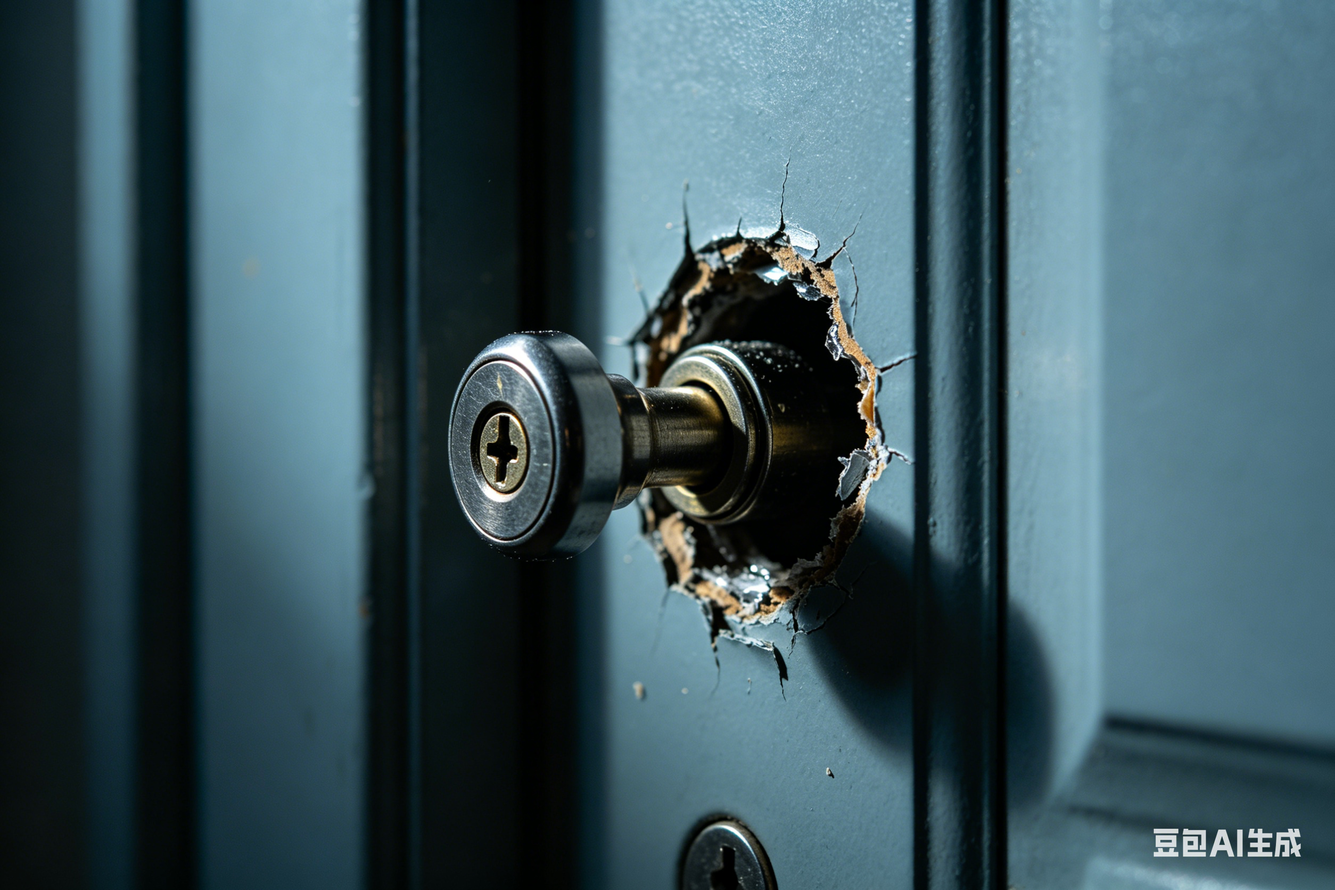BadLock: (613, 236, 892, 641)
